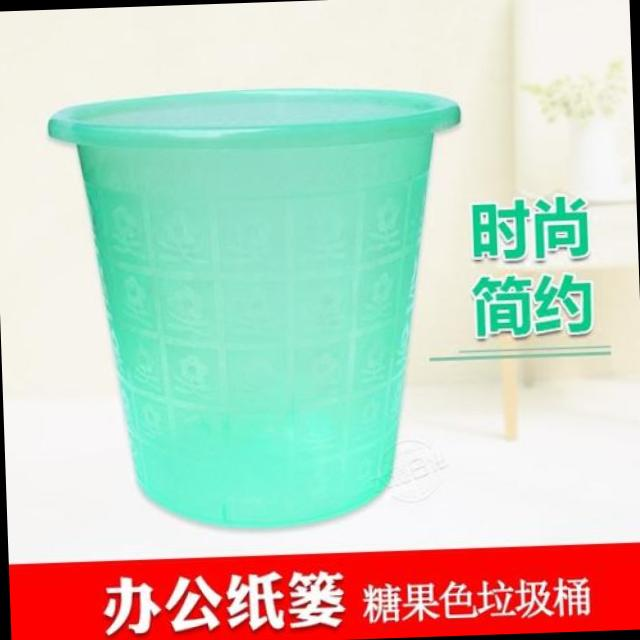dustbin: (38, 74, 480, 540)
